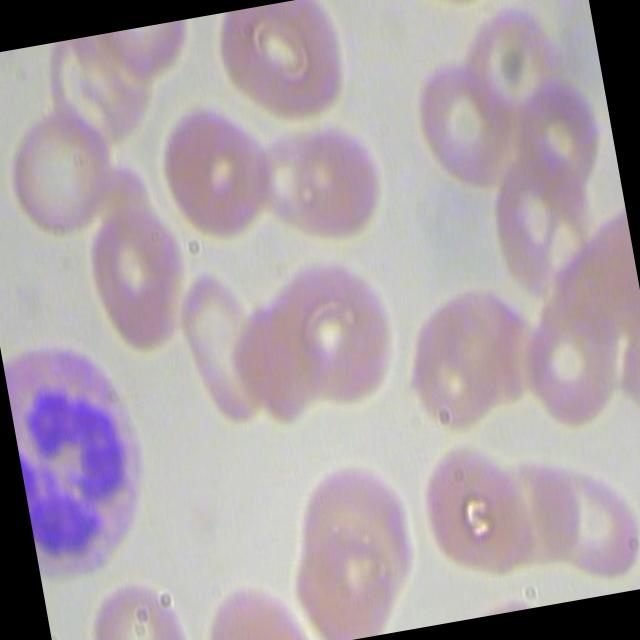RBC: (249, 241, 413, 428), (247, 98, 392, 250), (74, 190, 196, 368), (410, 429, 540, 588), (152, 94, 280, 246), (209, 0, 353, 135), (0, 95, 121, 246), (283, 495, 409, 640), (172, 256, 274, 432), (406, 52, 523, 192), (516, 293, 632, 433), (504, 70, 614, 202), (77, 563, 194, 640)
WBC: (0, 323, 162, 595)
